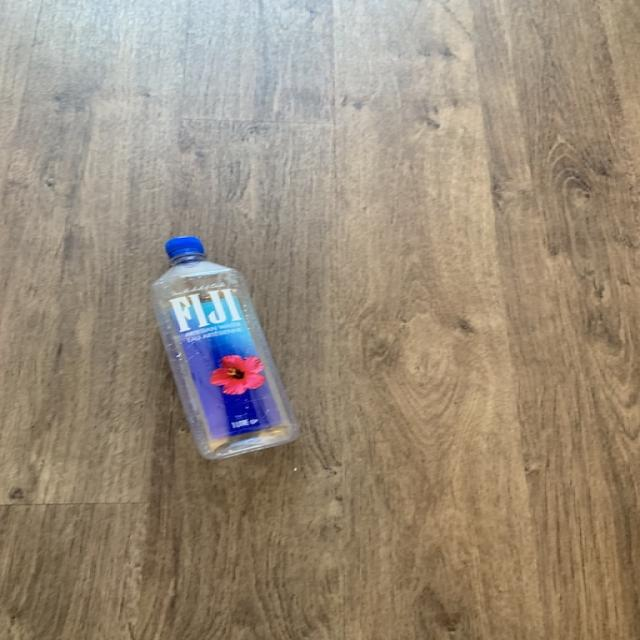Waste: (151, 236, 299, 461)
